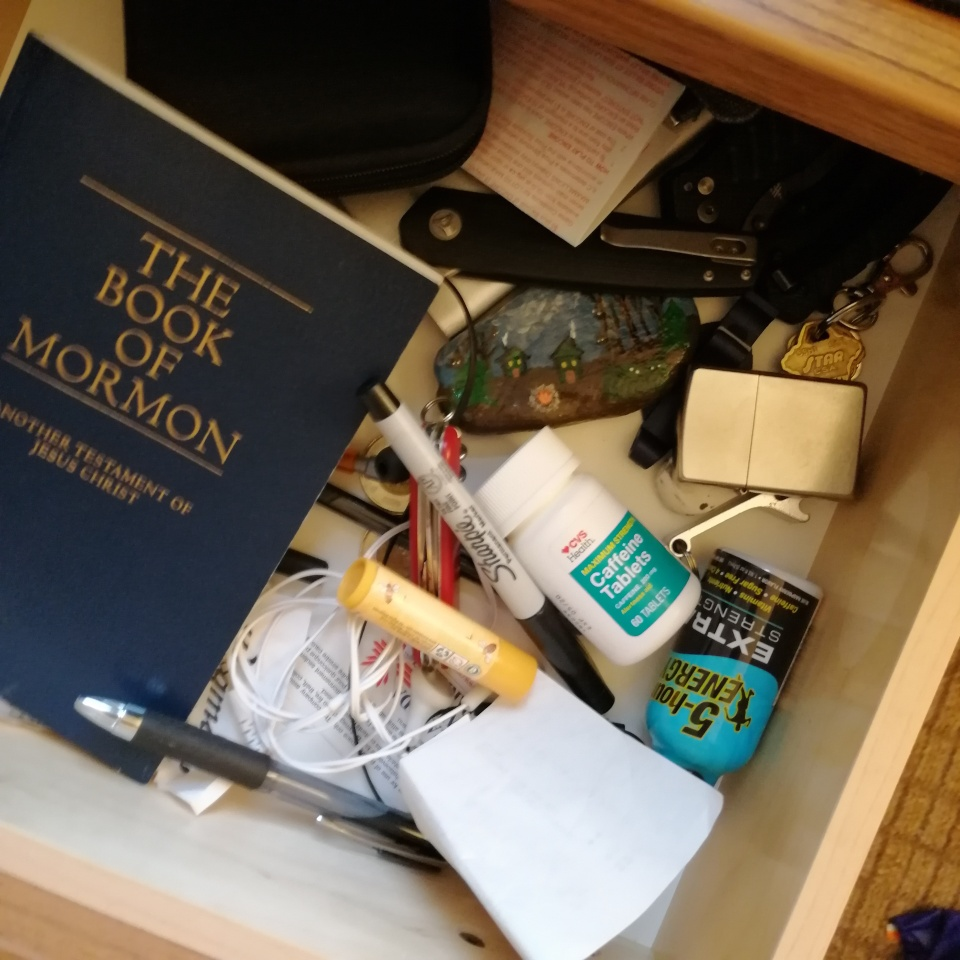chapstick: (337, 557, 539, 704)
